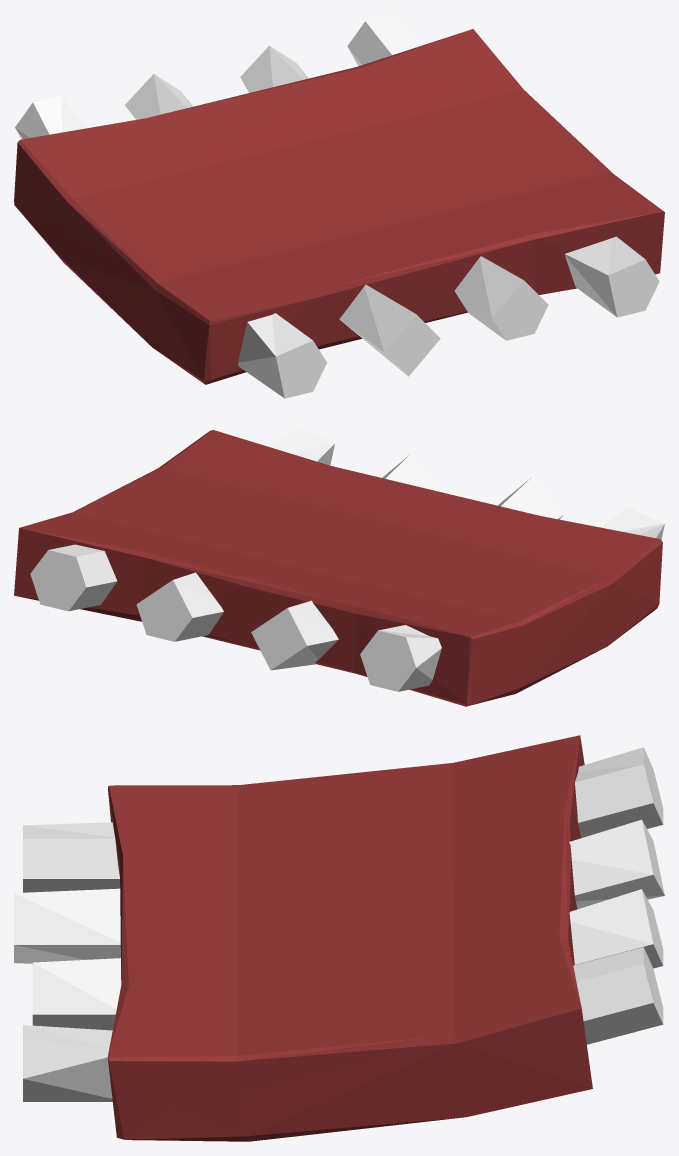
File: Steak_02.fbx
3 renders of one model, top to bottom at view 1: azimuth 30°, elevation 25°; view 2: azimuth 150°, elevation 25°; view 3: azimuth 270°, elevation 25°, orthographic. The views are drawn at different scales.
Visible parts, largest first — view 1: Steak_02; view 2: Steak_02; view 3: Steak_02.
Boxes of the visible parts, x1,y1,x2,y2 form: Steak_02: (14,14,664,398); Steak_02: (14,427,664,706); Steak_02: (14,735,664,1141).
Bounding box in the file's own units: 0.213 × 0.0529 × 0.212.
